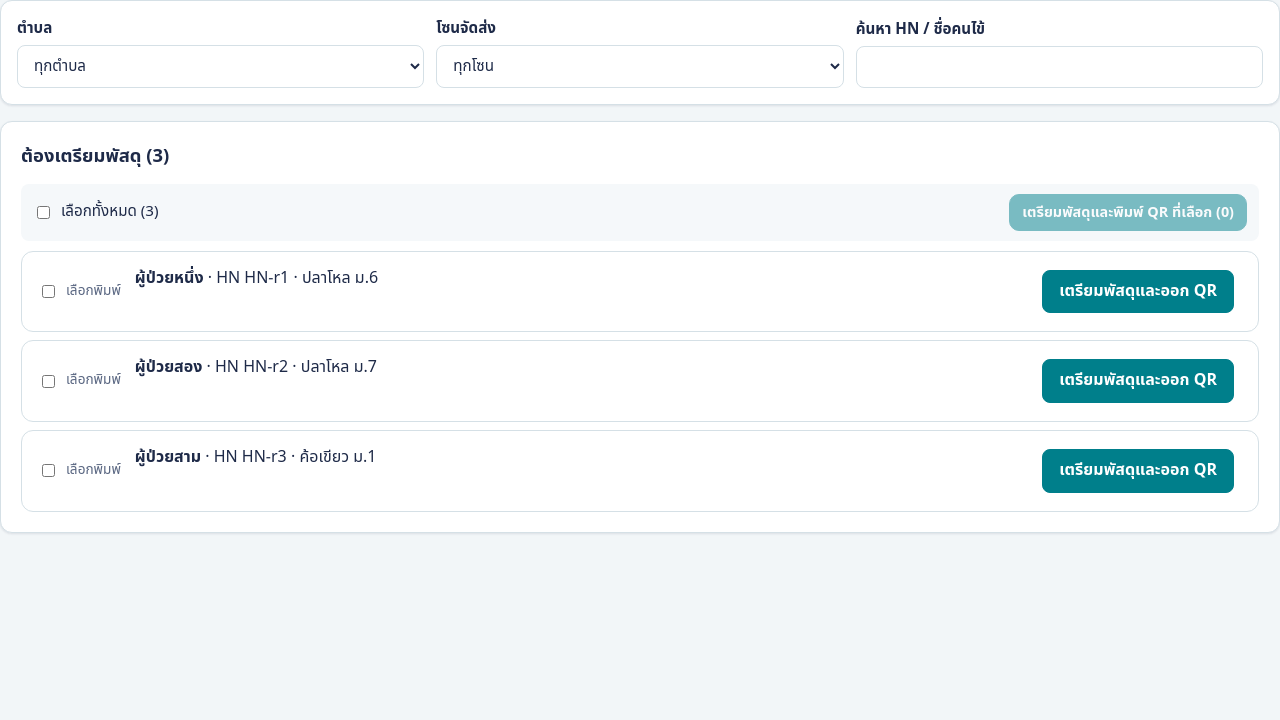
narrows the package board by subdistrict, then by zone within it
Expected: the heading "ต้องเตรียมพัสดุ (3)" is shown, [21,142,169,170]
Select "ต.ปลาโหล" in the dropdown labelled "ตำบล" at (221, 67), box [17,45,424,88]
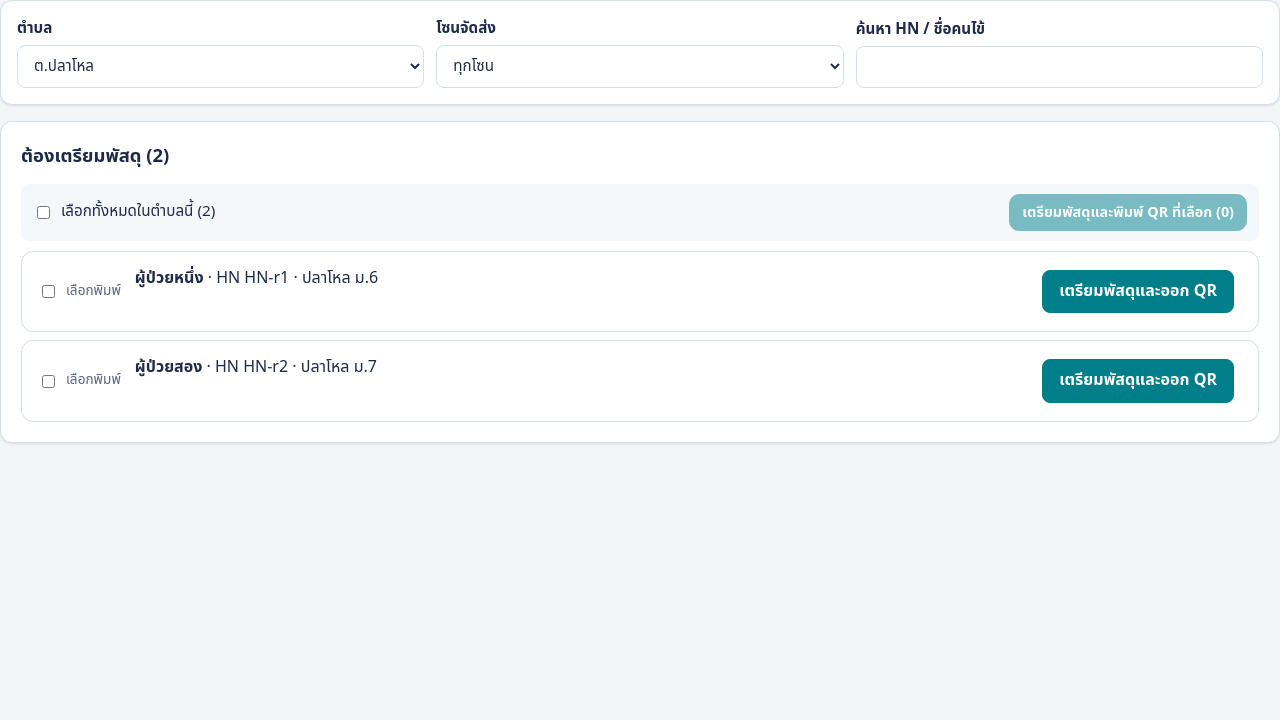
Result: the heading "ต้องเตรียมพัสดุ (2)" is shown at [21,142,169,170]
Result: the option "ค้อเขียว ม.1" is gone
Select "ปลาโหล ม.7" in the dropdown labelled "โซนจัดส่ง" at (640, 67), box [436,45,844,88]
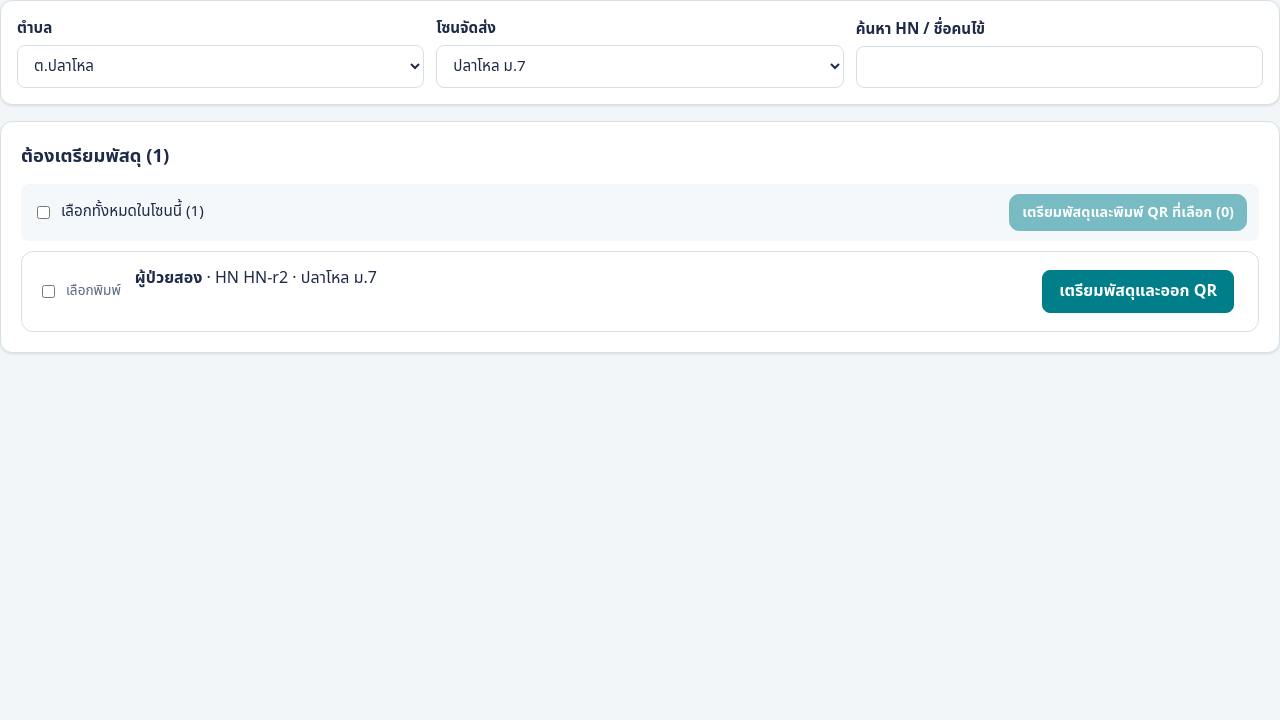
Expected: the text "ผู้ป่วยสอง" is shown, [135,266,202,290]
Result: the heading "ต้องเตรียมพัสดุ (1)" is shown at [21,142,169,170]
Result: the text "ผู้ป่วยหนึ่ง" is gone
